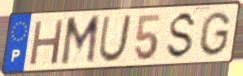5: (133, 13, 163, 63)
G: (197, 10, 233, 58)
H: (27, 17, 66, 68)
M: (59, 13, 102, 69)
S: (163, 10, 199, 62)
U: (96, 13, 134, 64)
